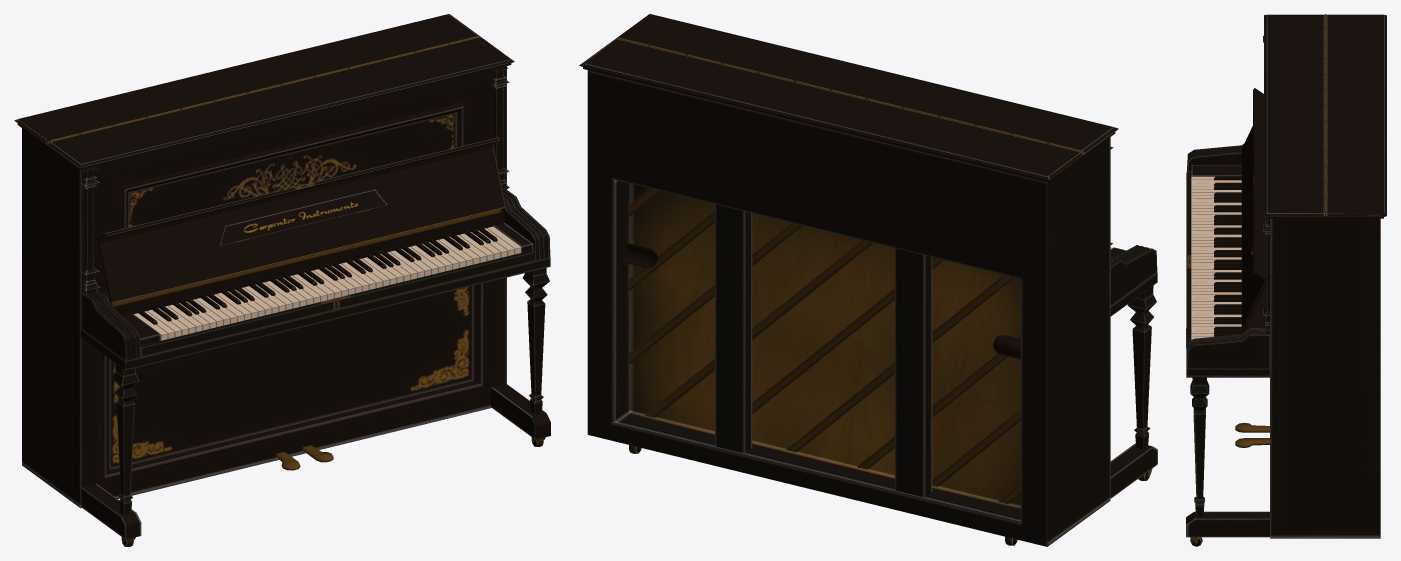
Rendered from the_piano.glb.
3 views of the same model, side by side, from view 1: azimuth 30°, elevation 25°; view 2: azimuth 150°, elevation 25°; view 3: azimuth 270°, elevation 25° (orthographic). The views are drawn at different scales.
Parts seen in each view (by area): view 1: Piano_2; view 2: Piano_2; view 3: Piano_2.
Boxes of the visible parts, x1,y1,x2,y2 form: Piano_2: (14, 14, 550, 546); Piano_2: (579, 14, 1157, 546); Piano_2: (1186, 14, 1386, 546).
Bounding box in the file's own units: 2.76 × 2.18 × 1.17.
1 material, 1 textured.
